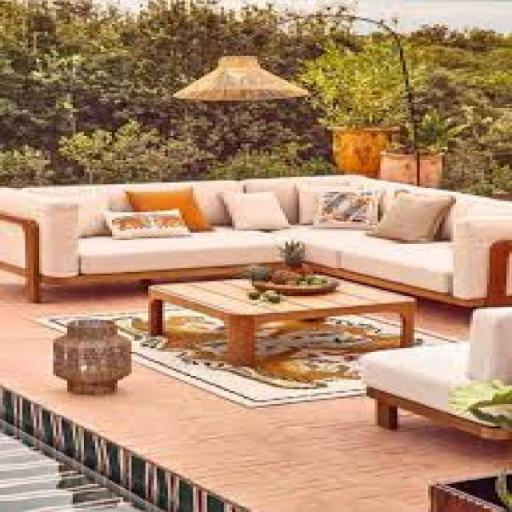sofa: (16, 144, 512, 332)
